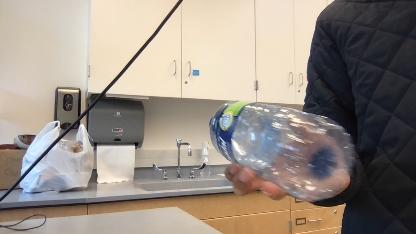Plastic Bottle: (204, 98, 358, 200)
